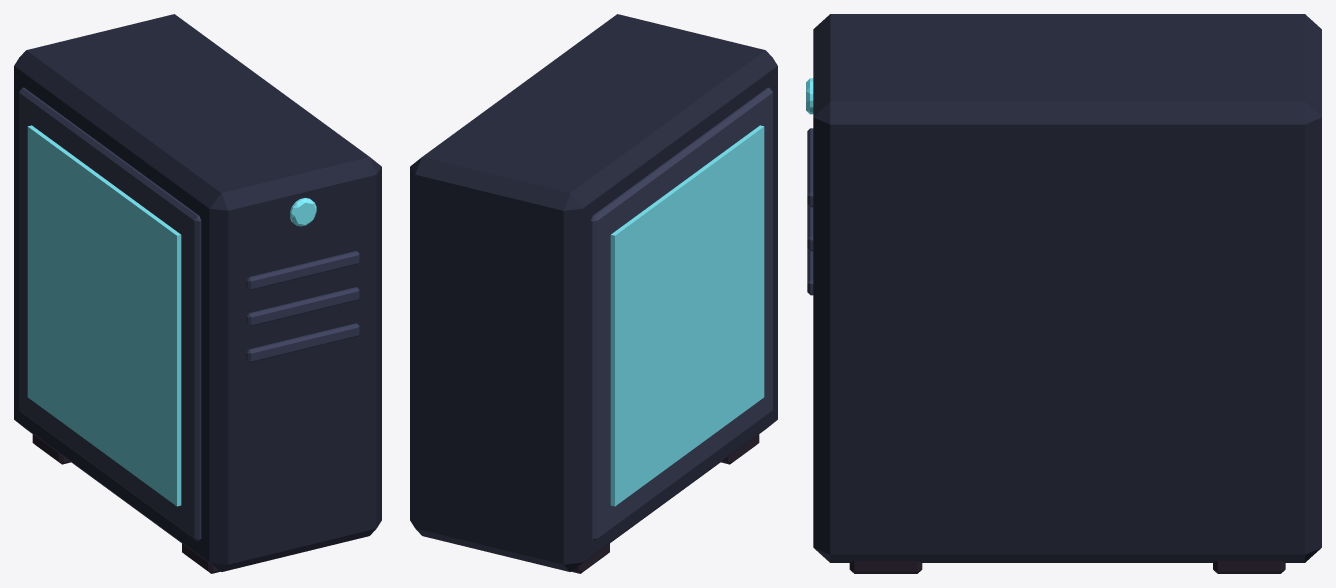
File: tower.glb
3 views of the same model, side by side, from view 1: azimuth 30°, elevation 25°; view 2: azimuth 150°, elevation 25°; view 3: azimuth 270°, elevation 25° (orthographic). The views are drawn at different scales.
Visible parts, largest first — view 1: pc_tower, rgb; view 2: pc_tower, rgb; view 3: pc_tower.
Boxes of the visible parts, x1,y1,x2,y2 form: pc_tower: (14,14,381,573); rgb: (27,125,181,506); pc_tower: (410,14,777,573); rgb: (610,125,764,506); pc_tower: (806,14,1321,573).
Size of the model in its own units: 0.211 by 0.43 by 0.426.
